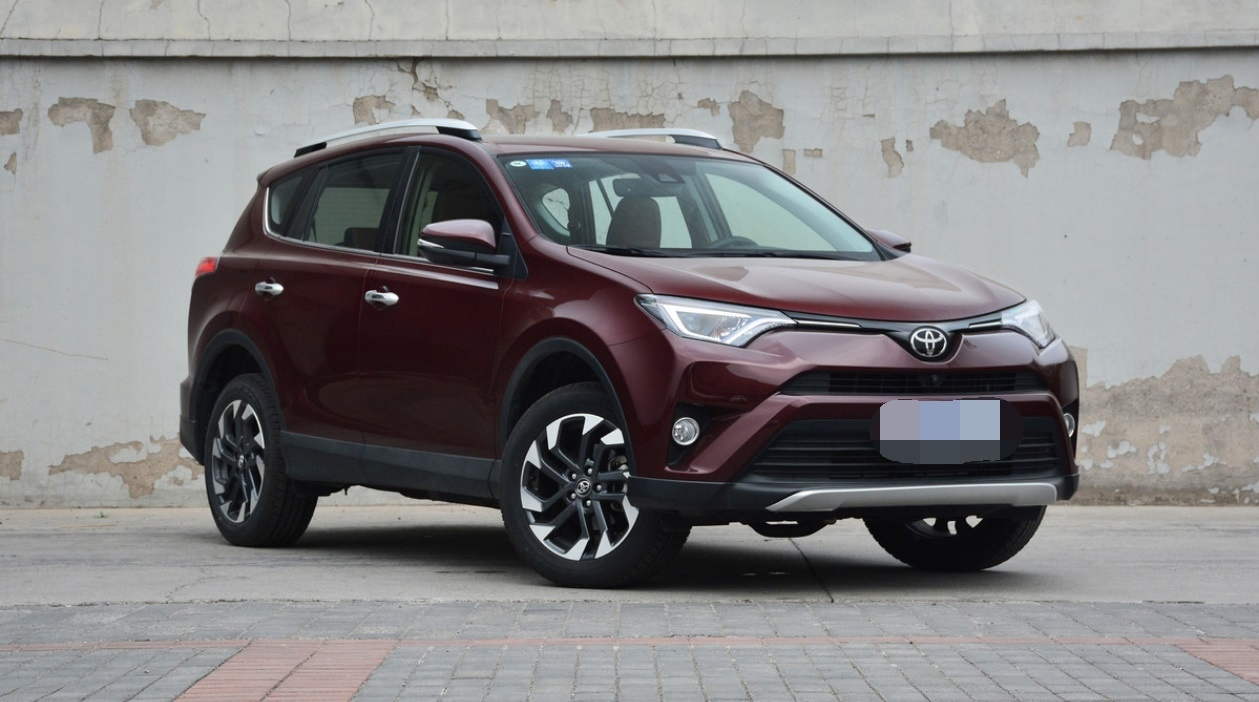SUV: (182, 117, 1092, 592)
